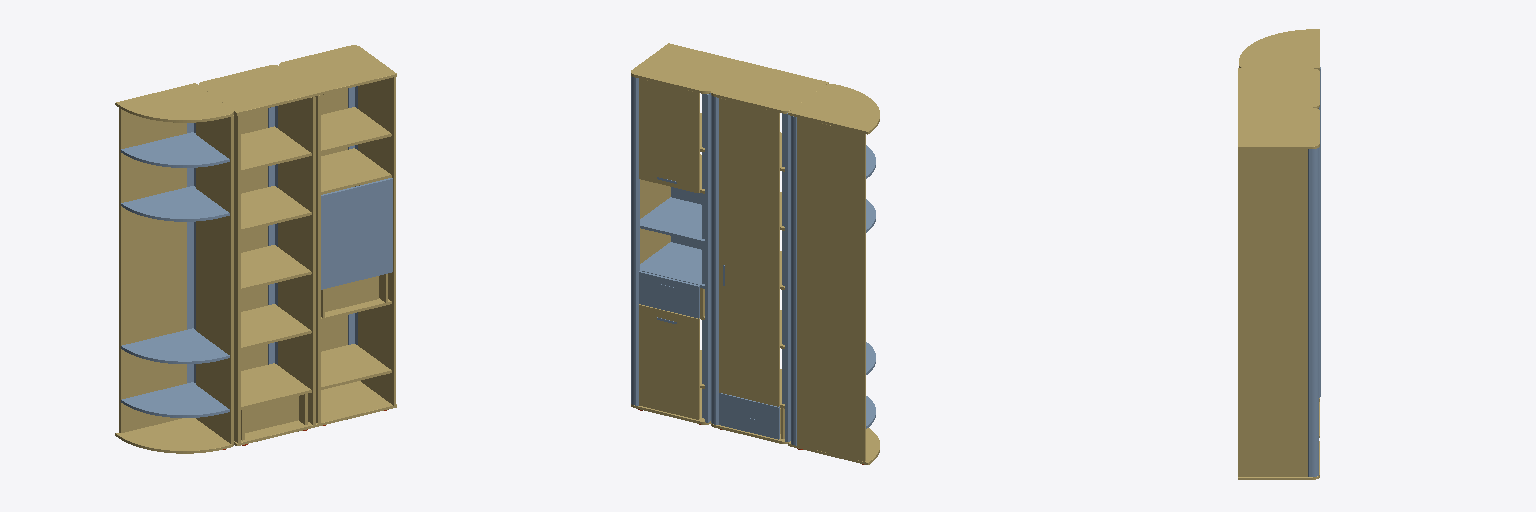
File: wardrobe1.obj
3 renders of one model, left to right at view 1: azimuth 30°, elevation 25°; view 2: azimuth 150°, elevation 25°; view 3: azimuth 270°, elevation 25°, orthographic.
Visible parts, largest first — view 1: Rectangle1.002, Rectangle1.001; view 2: Rectangle1.002, Rectangle1.001; view 3: Rectangle1.002, Rectangle1.001.
Part boxes in pixels (bbox=[...]): Rectangle1.002: bbox=[115, 45, 396, 453]; Rectangle1.001: bbox=[121, 86, 392, 417]; Rectangle1.002: bbox=[631, 43, 879, 464]; Rectangle1.001: bbox=[631, 76, 875, 445]; Rectangle1.002: bbox=[1238, 29, 1319, 479]; Rectangle1.001: bbox=[1308, 67, 1320, 476].
Size of the model in its own units: 11.1 by 14.81 by 3.35.